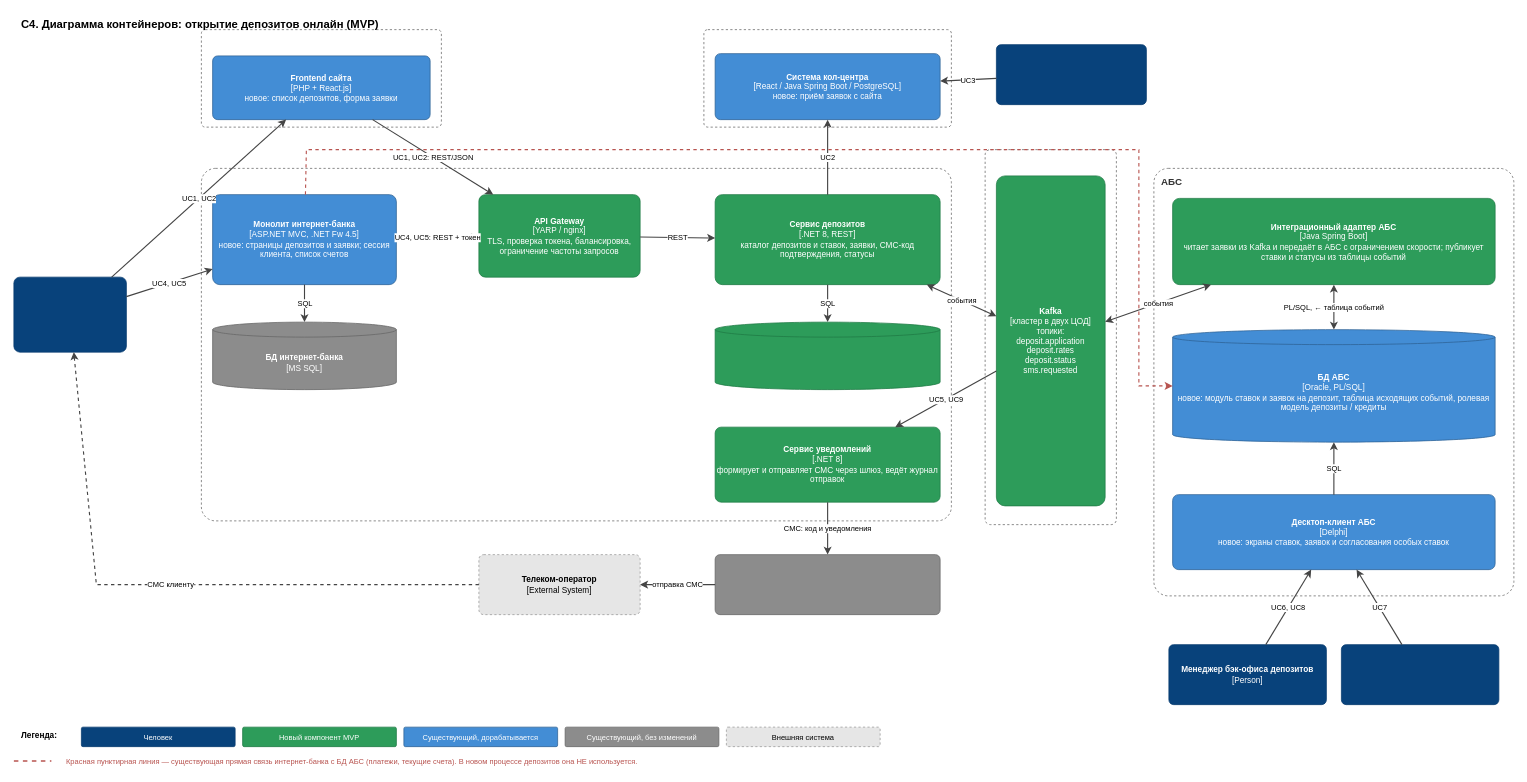
Image size: 1527x782. Some labels were removed from this diagram. Here are the shapes that lost their labels. From the top down, the box of each, then its label:
(201, 29, 441, 127): Сайт банка
(703, 29, 951, 127): Система кол-центра (подрядчик)
(996, 44, 1146, 105): Менеджер кол-центра [Person]
(13, 276, 126, 352): Клиент [Person]
(201, 168, 951, 521): Интернет-банк (расширяется)
(714, 321, 940, 390): БД сервиса депозитов [MS SQL, Always On]
(984, 149, 1116, 525): Платформа обмена
(714, 554, 940, 615): СМС-шлюз [поддерживает IT-отдел банка]
(1341, 644, 1499, 705): Сотрудник кредитования [Person]
